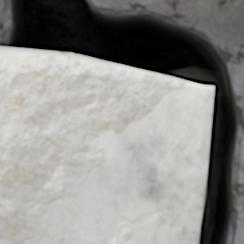brick: (0, 47, 212, 243)
crack: (2, 0, 242, 243)
